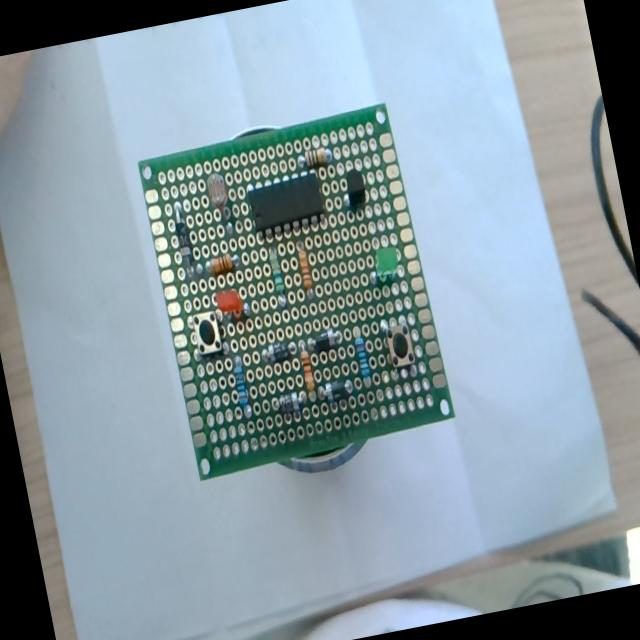IC: (240, 172, 336, 243)
cds: (196, 158, 244, 242)
diode: (166, 198, 199, 284), (304, 320, 348, 358), (315, 372, 358, 407), (259, 338, 299, 368), (271, 390, 308, 418)
led: (210, 280, 254, 328), (364, 242, 408, 290)
switch: (376, 312, 426, 382), (190, 304, 227, 362)
transistor: (291, 237, 323, 310), (346, 321, 378, 394), (229, 350, 258, 424), (263, 243, 294, 311), (294, 332, 320, 406), (289, 142, 342, 175), (338, 165, 372, 214), (202, 246, 244, 284)
